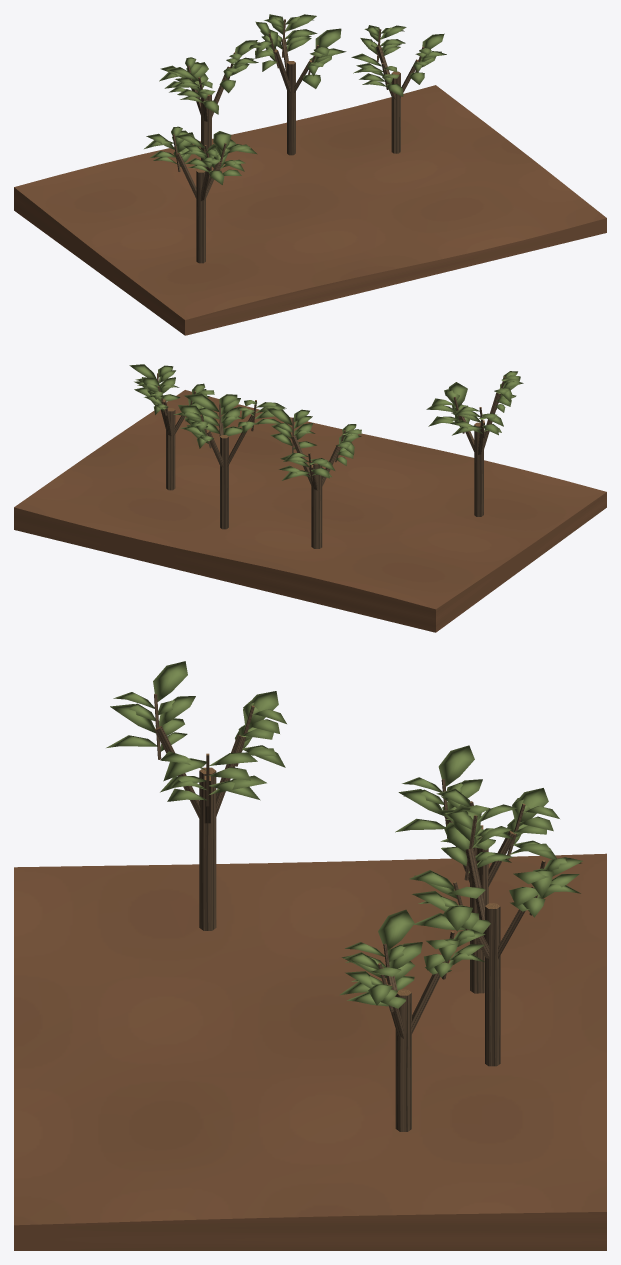
The picture shows the model from 3 angles, top to bottom: view 1: azimuth 30°, elevation 25°; view 2: azimuth 150°, elevation 25°; view 3: azimuth 270°, elevation 25°; orthographic projection. The views are drawn at different scales.
Parts seen in each view (by area): view 1: bridgetown; view 2: bridgetown; view 3: bridgetown.
Part boxes in pixels (bbox=[...]): bridgetown: bbox=[14, 14, 606, 335]; bridgetown: bbox=[14, 364, 606, 632]; bridgetown: bbox=[14, 661, 606, 1250].
Bounding box in the file's own units: 7.35 × 2.6 × 5.16.
Materials: 1 (1 with a texture image).
